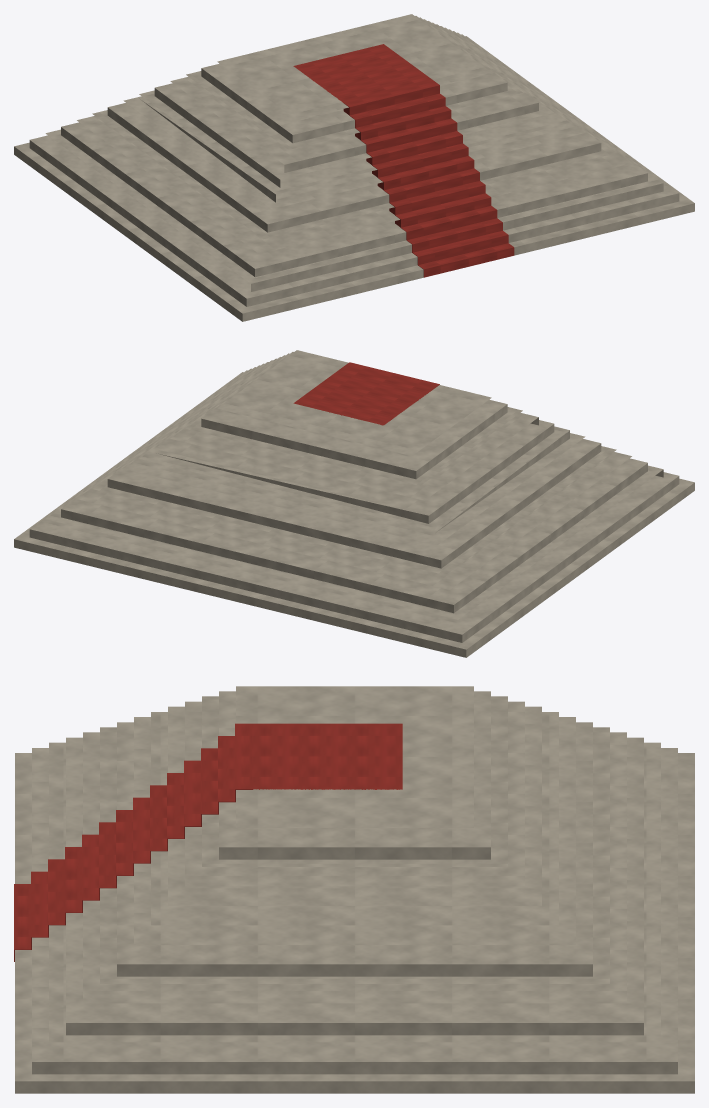
Rendered from Throne_Dais_Imperial_1_LOD2.gltf.
The picture shows the model from 3 angles, top to bottom: view 1: azimuth 30°, elevation 25°; view 2: azimuth 150°, elevation 25°; view 3: azimuth 270°, elevation 25°; orthographic projection. The views are drawn at different scales.
Visible parts, largest first — view 1: Throne_Dais_Imperial_1_LOD2; view 2: Throne_Dais_Imperial_1_LOD2; view 3: Throne_Dais_Imperial_1_LOD2.
Part boxes in pixels (bbox=[...]): Throne_Dais_Imperial_1_LOD2: bbox=[14, 14, 694, 321]; Throne_Dais_Imperial_1_LOD2: bbox=[14, 350, 694, 657]; Throne_Dais_Imperial_1_LOD2: bbox=[14, 686, 694, 1093].
Bounding box in the file's own units: 16 × 3.93 × 14.02.
Materials: 2 (2 with a texture image).
